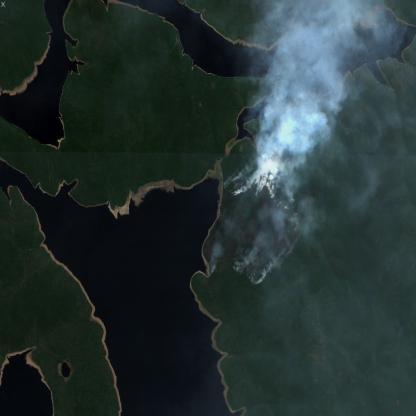fire: (202, 171, 302, 286)
